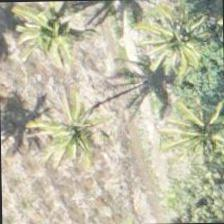Kelapa_Sawit: (23, 84, 114, 176), (127, 0, 220, 90), (0, 0, 91, 88), (144, 92, 223, 185)
